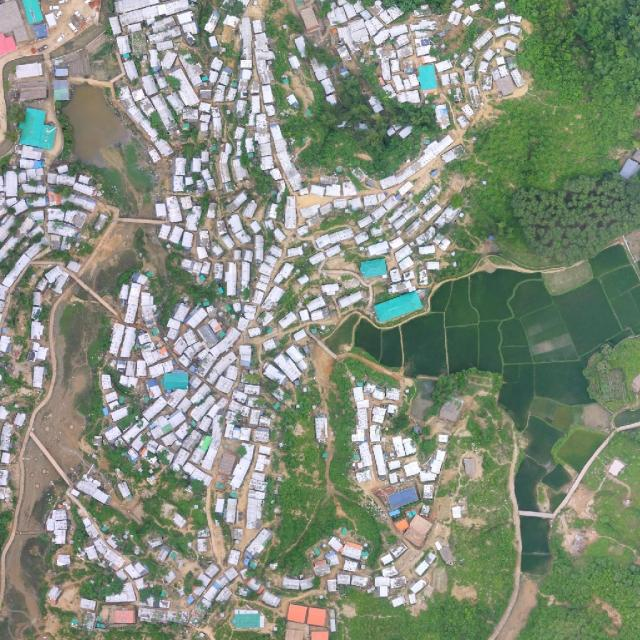agricultural_land: (555, 417, 608, 473), (516, 416, 566, 470), (507, 455, 549, 514), (520, 516, 549, 553), (521, 554, 551, 574), (614, 409, 640, 426)
building: (307, 376, 463, 530), (150, 376, 291, 509), (229, 17, 304, 196), (0, 142, 108, 259), (311, 527, 439, 614), (160, 298, 253, 391), (113, 85, 226, 161), (156, 195, 244, 271), (379, 131, 456, 195), (326, 0, 411, 56), (409, 201, 474, 266), (78, 528, 137, 586), (258, 340, 316, 397), (376, 57, 441, 107), (138, 382, 214, 421), (298, 191, 400, 219), (246, 201, 297, 252), (26, 290, 54, 364), (197, 564, 241, 609), (275, 295, 331, 330), (409, 223, 451, 265), (17, 107, 58, 150), (129, 328, 170, 370), (251, 242, 285, 292), (167, 66, 200, 109), (178, 48, 209, 89), (224, 298, 259, 334), (243, 524, 275, 561), (292, 204, 327, 237), (387, 244, 415, 284), (108, 323, 138, 359), (412, 255, 443, 289), (224, 212, 252, 248), (8, 79, 50, 103), (314, 227, 355, 250), (121, 416, 149, 444), (124, 283, 143, 324), (146, 24, 182, 45), (261, 283, 286, 313), (114, 0, 160, 14), (271, 261, 296, 286), (308, 55, 331, 82), (181, 258, 212, 278), (106, 582, 135, 603), (140, 291, 156, 328), (494, 75, 518, 98), (365, 239, 392, 259), (202, 8, 223, 33), (239, 17, 251, 60), (224, 261, 238, 297), (158, 48, 178, 73), (433, 103, 451, 130), (163, 372, 190, 390), (166, 195, 183, 223), (51, 270, 70, 295), (43, 264, 65, 285), (140, 73, 159, 97), (15, 63, 43, 79), (473, 30, 494, 51), (394, 247, 413, 270), (52, 78, 70, 102), (467, 84, 484, 109), (29, 364, 46, 389), (508, 67, 527, 89), (293, 35, 311, 58), (366, 93, 385, 114), (172, 302, 191, 323), (122, 59, 140, 81), (107, 14, 124, 37), (214, 376, 234, 395), (147, 48, 162, 73), (410, 18, 438, 31), (319, 76, 337, 96), (217, 65, 234, 86), (239, 261, 253, 286), (217, 161, 232, 184), (115, 35, 131, 56), (391, 281, 415, 295), (402, 203, 420, 221), (154, 71, 170, 91), (233, 98, 248, 119), (173, 157, 188, 178), (81, 515, 96, 536), (441, 70, 459, 87), (458, 53, 476, 70), (397, 123, 415, 140), (384, 121, 402, 138), (147, 362, 165, 379), (395, 44, 414, 60), (285, 92, 301, 111), (223, 364, 240, 381), (413, 3, 431, 19), (498, 13, 522, 25), (308, 250, 326, 266), (170, 175, 186, 192), (460, 103, 476, 119), (210, 56, 225, 73), (447, 10, 462, 27), (222, 15, 240, 29), (394, 33, 410, 48), (166, 317, 182, 332), (342, 181, 358, 196), (133, 564, 148, 580), (435, 60, 453, 73), (168, 320, 180, 339), (239, 67, 254, 82), (482, 47, 497, 62), (224, 87, 238, 103), (493, 25, 510, 38), (423, 206, 440, 219), (415, 45, 433, 57), (463, 67, 475, 85), (118, 283, 130, 301), (489, 66, 503, 81), (456, 114, 471, 128), (214, 85, 226, 102), (212, 262, 224, 279), (325, 184, 342, 196), (206, 70, 219, 85), (204, 177, 217, 192), (125, 360, 136, 377), (497, 64, 510, 78), (288, 54, 301, 68), (421, 53, 436, 65), (310, 184, 325, 196), (190, 157, 201, 173), (461, 14, 474, 27), (325, 93, 338, 106), (508, 25, 523, 36), (415, 37, 431, 47), (101, 374, 111, 390), (136, 360, 146, 376), (468, 2, 481, 14), (209, 35, 219, 50), (242, 204, 254, 216), (505, 40, 518, 51), (180, 196, 191, 209), (509, 13, 523, 23), (219, 151, 229, 165), (200, 168, 211, 180), (156, 204, 166, 217), (494, 1, 506, 11), (240, 60, 253, 69), (495, 55, 505, 66), (479, 61, 489, 72), (415, 32, 430, 39), (224, 143, 233, 154), (201, 151, 209, 162), (150, 327, 159, 336), (419, 4, 429, 12), (325, 286, 338, 292), (240, 90, 248, 98), (253, 585, 261, 593)
dryland: (44, 76, 138, 176), (74, 212, 159, 306)
greenland: (315, 455, 585, 640), (266, 36, 450, 216), (520, 429, 640, 639), (304, 371, 395, 566), (253, 393, 344, 577)
